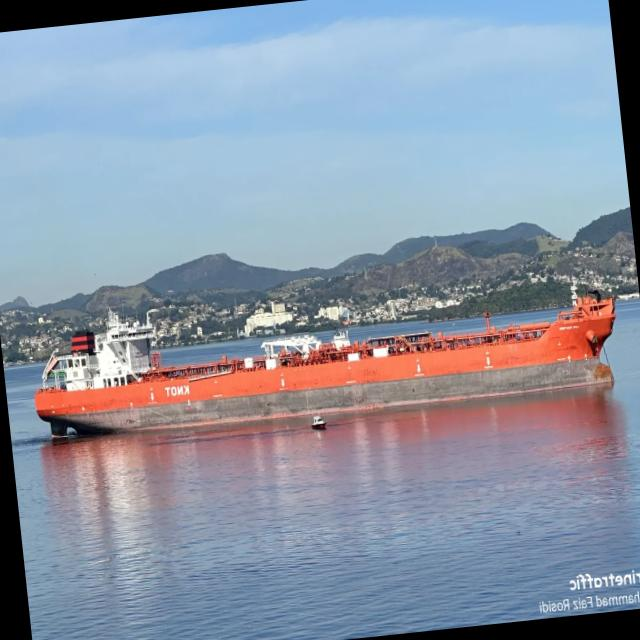Tanker: (34, 289, 616, 437)
